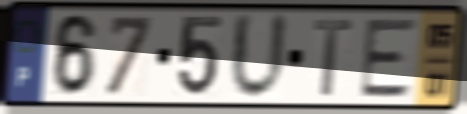5: (177, 13, 227, 100)
6: (48, 12, 103, 100)
7: (104, 13, 154, 99)
E: (357, 17, 421, 101)
T: (311, 17, 356, 100)
U: (228, 11, 291, 105)
